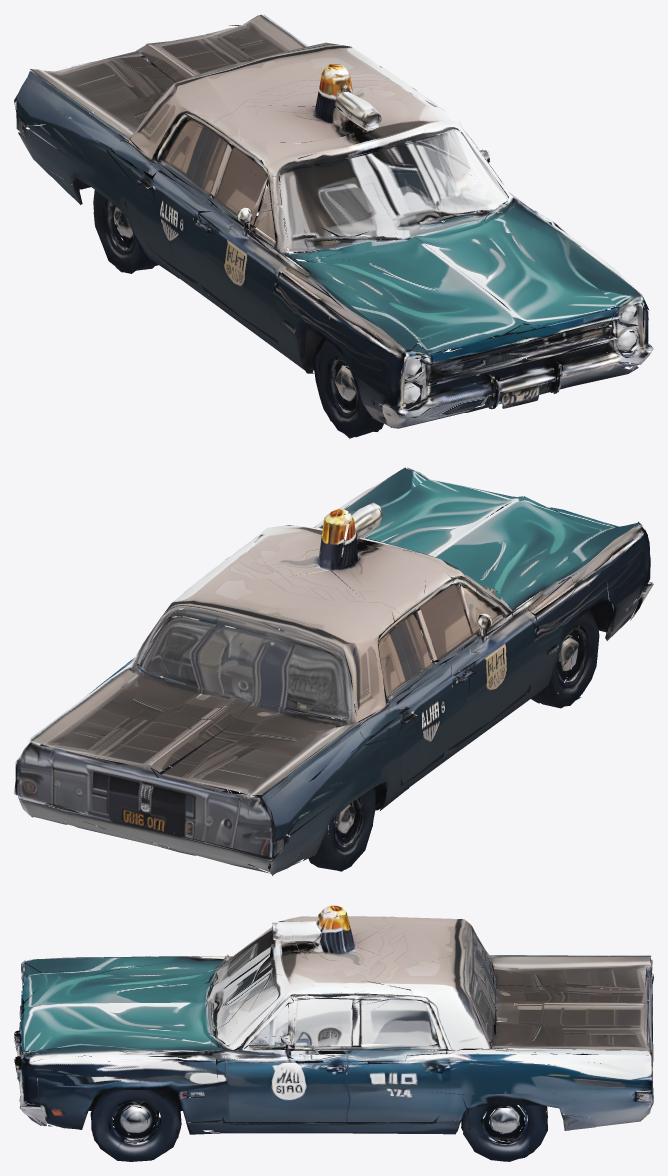
Rendered from vehicle_police_sedan_1960s.glb.
The picture shows the model from 3 angles, top to bottom: view 1: azimuth 30°, elevation 25°; view 2: azimuth 150°, elevation 25°; view 3: azimuth 270°, elevation 25°; orthographic projection. The views are drawn at different scales.
Parts seen in each view (by area): view 1: model; view 2: model; view 3: model.
Part boxes in pixels (left/top/right/bottom): model: left=14, top=14, right=653, bottom=438; model: left=14, top=467, right=653, bottom=875; model: left=14, top=905, right=653, bottom=1161.
Size of the model in its own units: 1.99 by 1.8 by 4.95.
Materials: 1 (1 with a texture image).
